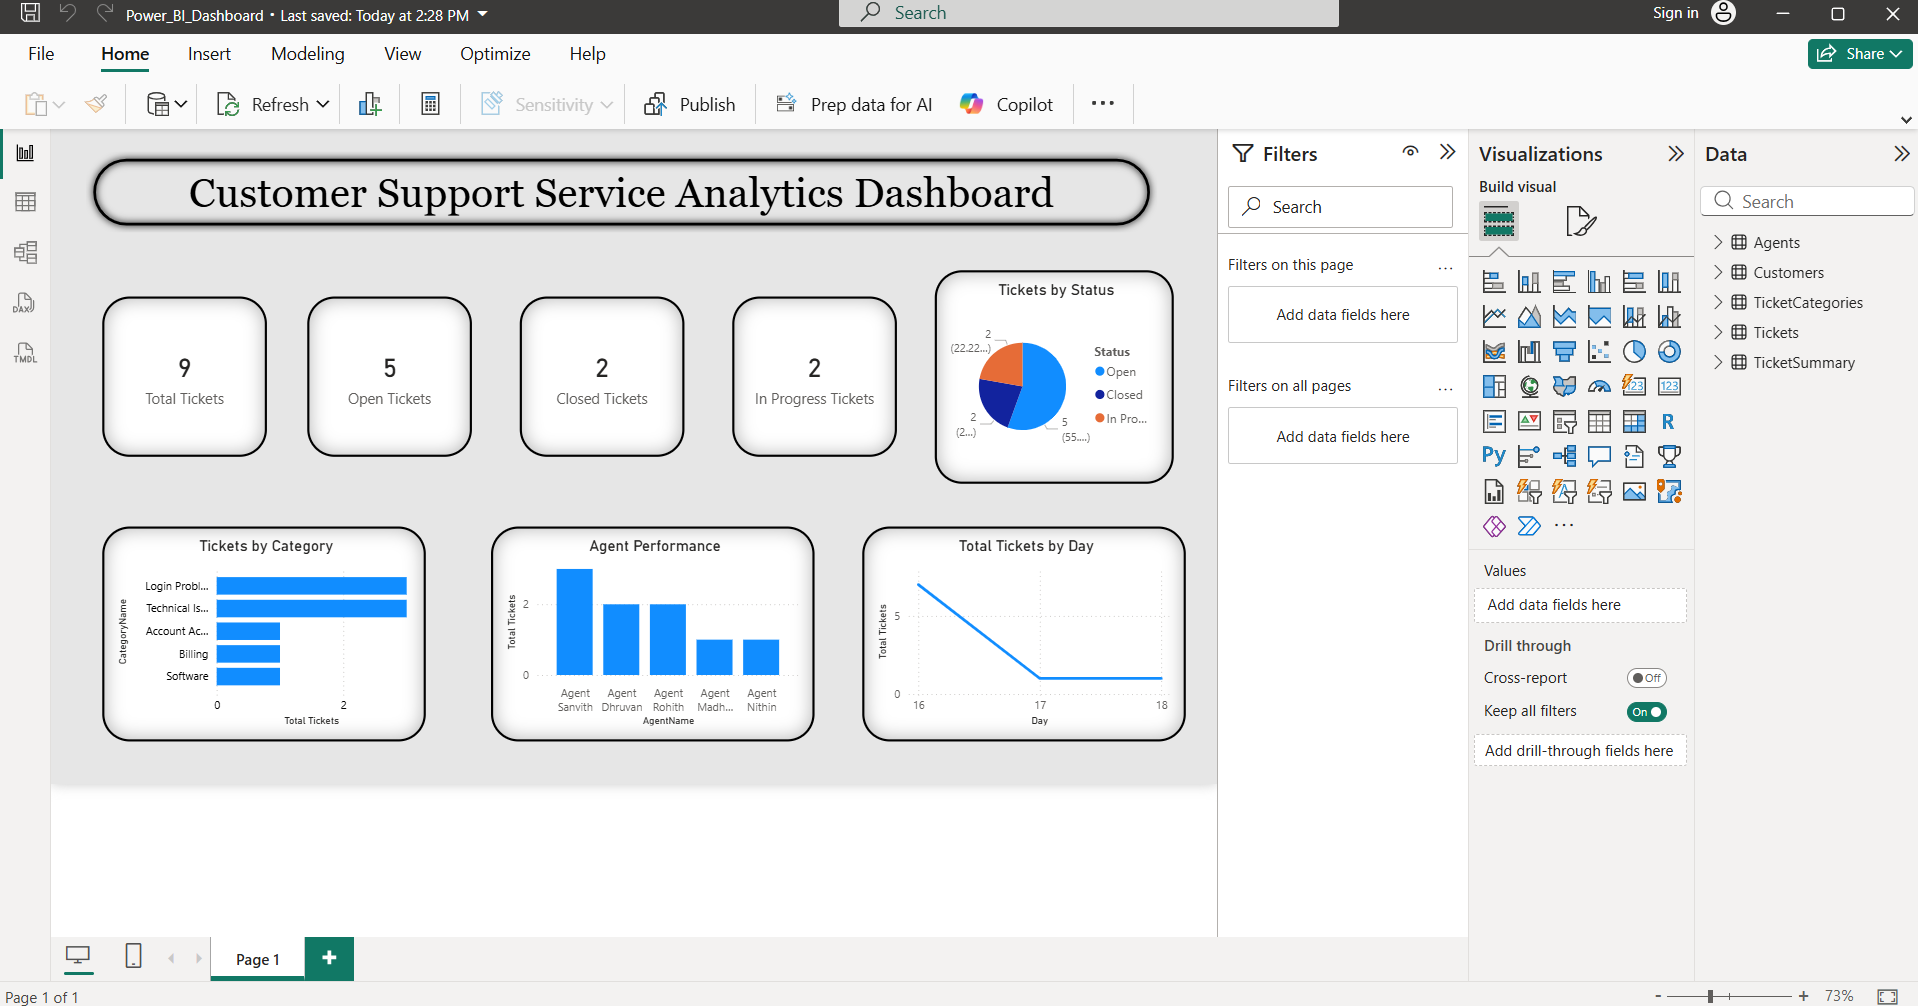

The dashboard page shown, as its layout file describes it:
{"tool":"powerbi","page":{"name":"Page 1","canvas":[1280,720],"ordinal":0},"visuals":[{"type":"card","title":"Total Tickets","fields":{"Values":["Tickets.Total Tickets"]},"box":[56.3,183.9,181.1,175.6],"z":0},{"type":"card","fields":{"Values":["Tickets.Open Tickets"]},"box":[281.3,183.9,181.1,175.6],"z":1000},{"type":"card","fields":{"Values":["Tickets.Closed Tickets"]},"box":[514.6,183.9,181.1,175.6],"z":2000},{"type":"card","fields":{"Values":["Tickets.In Progress Tickets"]},"box":[747.9,183.9,181.1,175.6],"z":3000},{"type":"pieChart","title":"Tickets by Status","fields":{"Category":["Tickets.Status"],"Y":["CountNonNull(Tickets.TicketId)"]},"box":[970.2,155.1,262.1,234.6],"z":4000},{"type":"clusteredBarChart","title":"Tickets by Category","fields":{"Category":["TicketCategories.CategoryName"],"Y":["Tickets.Total Tickets"]},"box":[56.3,436.4,355.4,236],"z":5000},{"type":"clusteredColumnChart","title":"Agent Performance","fields":{"Category":["Agents.AgentName"],"Y":["Tickets.Total Tickets"]},"box":[483,436.4,355.4,236],"z":6000},{"type":"lineChart","fields":{"Category":["Tickets.CreatedAt.Variation.Date Hierarchy.Day"],"Y":["Tickets.Total Tickets"]},"box":[890.6,436.4,355.4,236],"z":7000},{"type":"shape","box":[38.4,24.7,1176,89.2],"z":8000}]}

Visuals, with their boxes on the page's 1280x720 design canvas (x1, y1, x2, y2). These are canvas units, not pixel positions in the 1918x1006 screenshot, which may show the page scaled, cropped or inside an application window:
"Total Tickets" card: {"left": 56, "top": 184, "right": 237, "bottom": 360}
card - Tickets.Open Tickets: {"left": 281, "top": 184, "right": 462, "bottom": 360}
card - Tickets.Closed Tickets: {"left": 515, "top": 184, "right": 696, "bottom": 360}
card - Tickets.In Progress Tickets: {"left": 748, "top": 184, "right": 929, "bottom": 360}
"Tickets by Status" pieChart: {"left": 970, "top": 155, "right": 1232, "bottom": 390}
"Tickets by Category" clusteredBarChart: {"left": 56, "top": 436, "right": 412, "bottom": 672}
"Agent Performance" clusteredColumnChart: {"left": 483, "top": 436, "right": 838, "bottom": 672}
lineChart - Tickets.CreatedAt.Variation.Date Hierarchy.Day x Tickets.Total Tickets: {"left": 891, "top": 436, "right": 1246, "bottom": 672}
shape: {"left": 38, "top": 25, "right": 1214, "bottom": 114}
